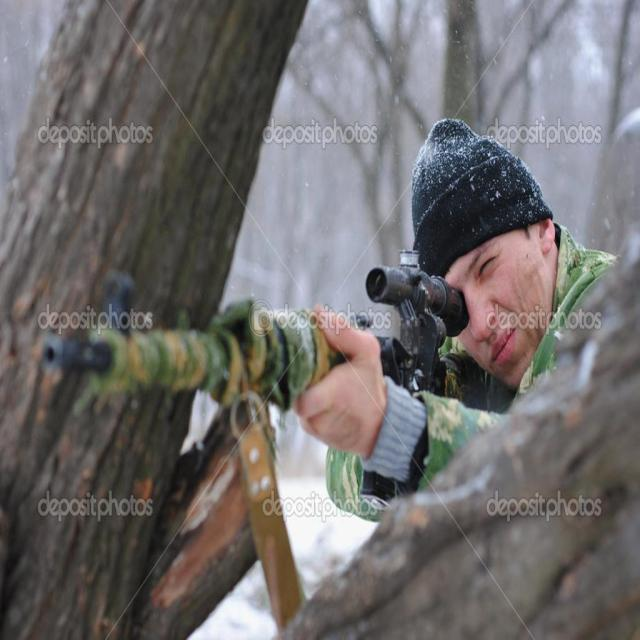Face: (439, 216, 556, 369)
